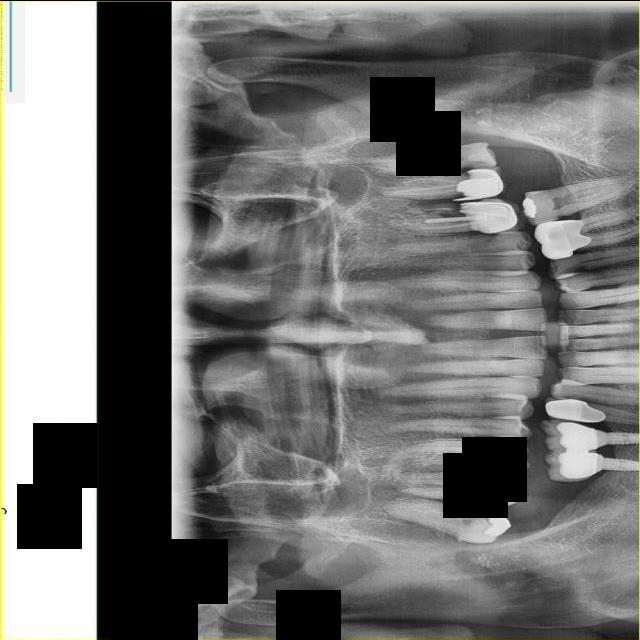55: (600, 428, 639, 445), (600, 457, 639, 472)
71: (422, 214, 487, 223), (458, 207, 504, 217)
74: (387, 183, 457, 194), (419, 220, 473, 232), (391, 188, 456, 197), (401, 176, 458, 183), (420, 206, 452, 210)
NucleOSS Implant: (486, 436, 526, 472), (450, 175, 498, 201), (484, 474, 524, 501), (485, 514, 511, 536), (522, 196, 537, 218)
Sterngold Implant: (452, 484, 508, 508), (444, 504, 485, 523), (560, 390, 599, 403), (562, 260, 593, 275), (458, 471, 492, 484), (437, 202, 463, 217), (461, 460, 487, 469), (459, 161, 486, 169), (551, 212, 571, 220), (460, 169, 470, 177)
Straumann Implant: (466, 142, 498, 174)
Zimmer Implant: (531, 208, 594, 265), (461, 195, 526, 235), (539, 418, 603, 454), (545, 447, 607, 482), (466, 161, 508, 201), (544, 395, 605, 421)
